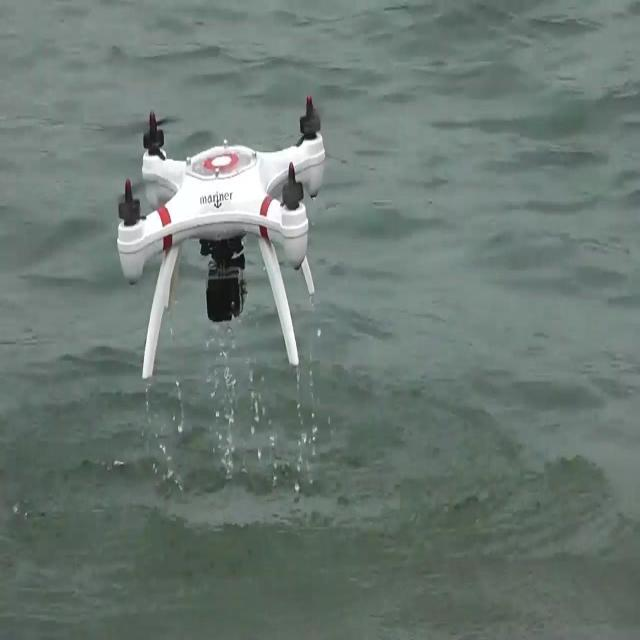drone: (115, 90, 329, 379)
